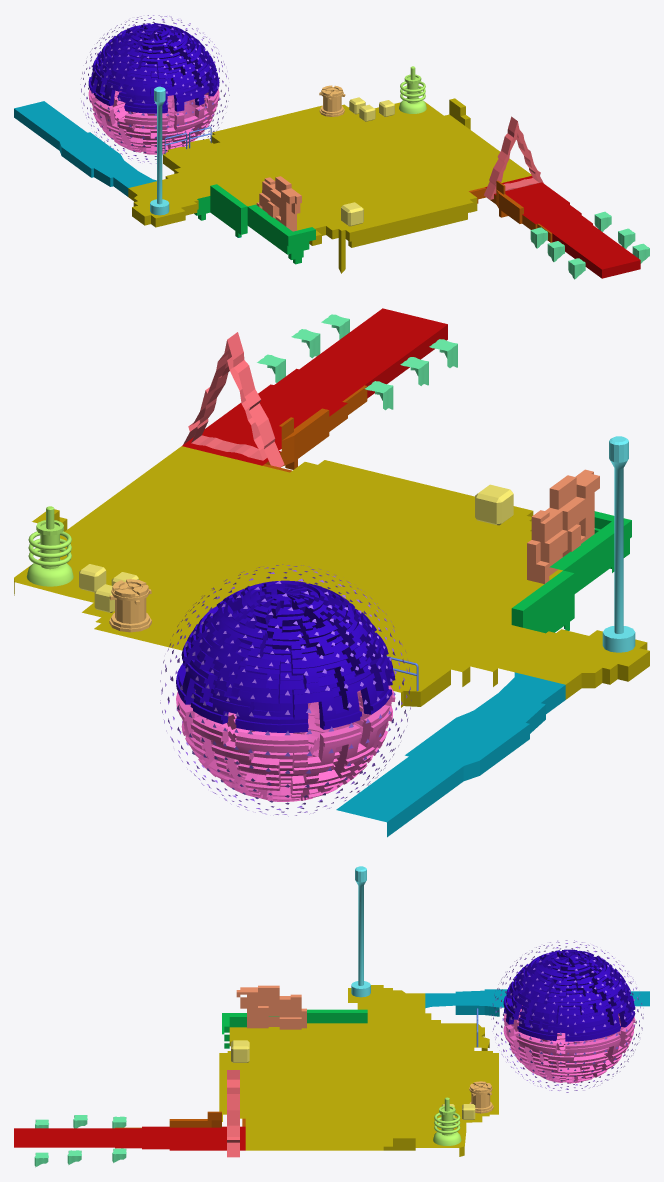
The model's file is Boss.FBX.
3 views of the same model, one above another, from view 1: azimuth 30°, elevation 25°; view 2: azimuth 150°, elevation 25°; view 3: azimuth 270°, elevation 25° (orthographic). The views are drawn at different scales.
Visible parts, largest first — view 1: Plane001, Sphere001, Box093, Torus001, Box024, Cylinder031, Spindle001, ChamferBox007; view 2: Plane001, Sphere001, Box093, Torus001, Box024, Cylinder031, Spindle001, ChamferBox007, Cylinder030, Torus008; view 3: Plane001, Sphere001, Box093, Box024, Torus001, Cylinder031, Spindle001.
Part boxes in pixels (x1,y1,x2,y2): Plane001: [14, 98, 640, 278]; Sphere001: [88, 23, 219, 154]; Box093: [256, 176, 301, 231]; Torus001: [484, 116, 543, 199]; Box024: [80, 15, 229, 163]; Cylinder031: [150, 86, 169, 215]; Spindle001: [319, 85, 345, 116]; ChamferBox007: [341, 202, 363, 226]; Plane001: [14, 308, 649, 837]; Sphere001: [176, 580, 395, 801]; Box093: [527, 469, 599, 583]; Torus001: [183, 332, 284, 467]; Box024: [160, 564, 411, 816]; Cylinder031: [602, 436, 635, 652]; Spindle001: [109, 579, 151, 632]; ChamferBox007: [475, 484, 513, 525]; Cylinder030: [36, 506, 63, 569]; Torus008: [26, 559, 73, 586]; Plane001: [14, 985, 649, 1156]; Sphere001: [503, 949, 635, 1083]; Box093: [236, 985, 306, 1029]; Box024: [491, 940, 643, 1092]; Torus001: [227, 1070, 239, 1157]; Cylinder031: [351, 866, 370, 997]; Spindle001: [469, 1081, 493, 1113].
Size of the model in its own units: 269 by 122 by 416.
